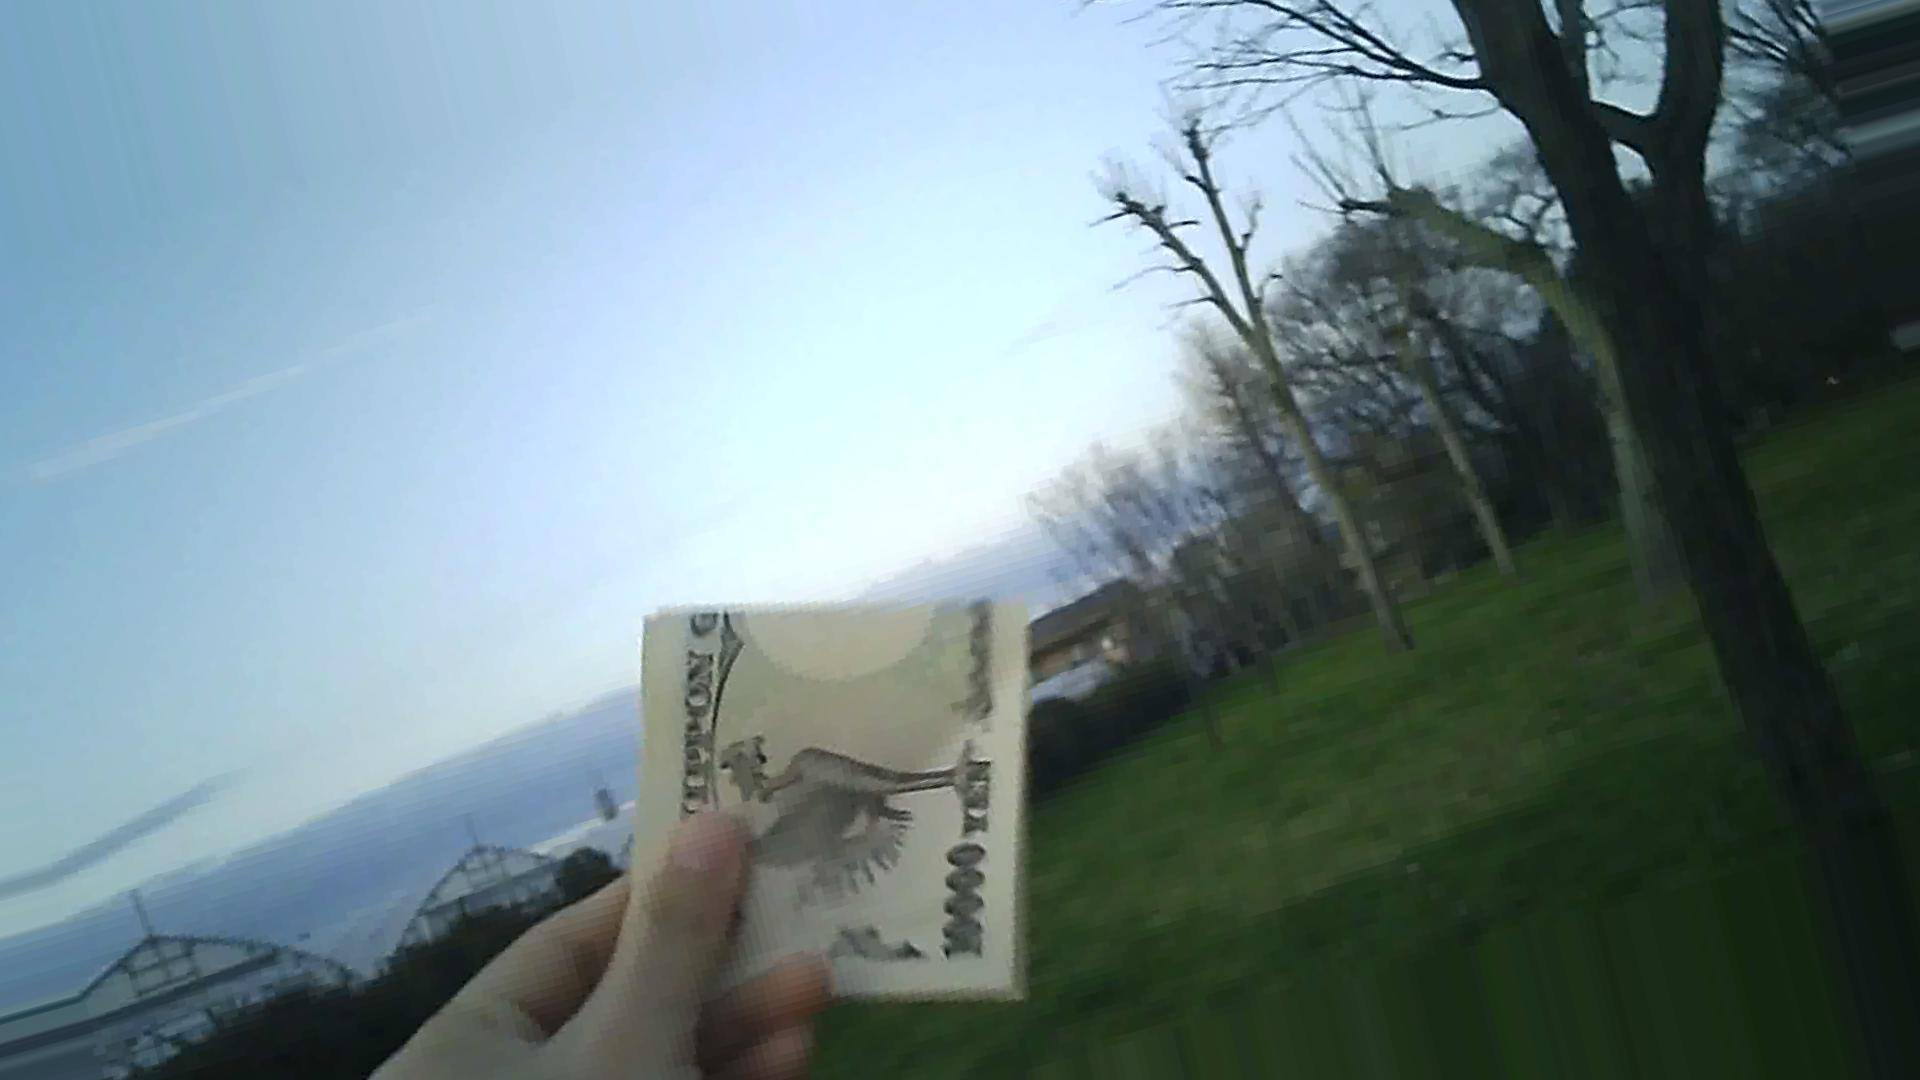10,000 Yen: (625, 566, 1062, 1038)
